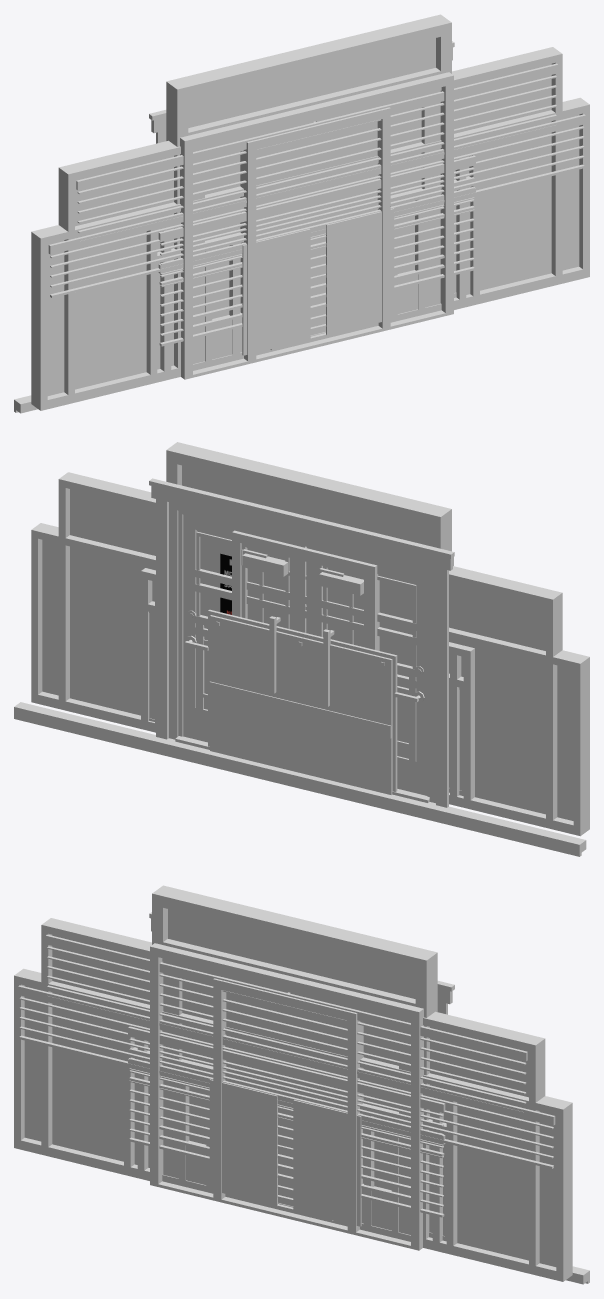
Rendered from WG01_Protos.fbx.
3 renders of one model, top to bottom at view 1: azimuth 30°, elevation 25°; view 2: azimuth 150°, elevation 25°; view 3: azimuth 330°, elevation 25°, orthographic.
Visible parts, largest first — view 1: P.win_office_front__Glass_2B3438, P.win_office_west__Glass_2B3438, P.win_motel_0__Fabric_B8865A, P.win_office_front__Metal_3A3129, P.win_office_front__SmoothPlastic_E6E0D0, P.storefront_door__Metal_3A3129, P.win_office_west__SmoothPlastic_E6E0D0, P.win_office_west__Metal_3A3129, P.door_elsol_pair__Wood_2F6B3E, P.storefront_door__Glass_2B3438, P.door_elsol_pair__Wood_6B3E22, P.door_back_steel__Metal_6E6A62 (+21 smaller); view 2: P.win_office_front__Glass_2B3438, P.win_boarded__Wood_B08A5C, P.storefront_door__Metal_3A3129, P.door_elsol_pair__Wood_2F6B3E, P.win_office_west__Glass_2B3438, P.win_office_west__Metal_3A3129, P.win_office_front__Metal_3A3129, P.win_office_west__Concrete_D8CFBE, P.win_elsol_12__Wood_2F6B3E, P.storefront_door__Glass_2B3438, P.door_back_steel__Metal_6E6A62, P.storefront_door__Glass_243036 (+15 smaller); view 3: P.win_office_west__Glass_2B3438, P.win_office_front__Glass_2B3438, P.win_motel_0__Fabric_B8865A, P.win_office_front__Metal_3A3129, P.win_office_front__SmoothPlastic_E6E0D0, P.win_office_west__SmoothPlastic_E6E0D0, P.win_office_west__Metal_3A3129, P.storefront_door__Metal_3A3129, P.door_elsol_pair__Wood_2F6B3E, P.storefront_door__Glass_2B3438, P.door_elsol_pair__Wood_6B3E22, P.door_back_steel__Metal_6E6A62 (+22 smaller).
Boxes of the visible parts, x1,y1,x2,y2 form: P.win_office_front__Glass_2B3438: [75, 63, 551, 389]; P.win_office_west__Glass_2B3438: [47, 114, 579, 395]; P.win_motel_0__Fabric_B8865A: [242, 208, 394, 355]; P.win_office_front__Metal_3A3129: [58, 47, 562, 404]; P.win_office_front__SmoothPlastic_E6E0D0: [76, 63, 558, 233]; P.storefront_door__Metal_3A3129: [166, 14, 451, 367]; P.win_office_west__SmoothPlastic_E6E0D0: [48, 114, 585, 287]; P.win_office_west__Metal_3A3129: [31, 97, 589, 410]; P.door_elsol_pair__Wood_2F6B3E: [149, 41, 454, 379]; P.storefront_door__Glass_2B3438: [188, 38, 435, 127]; P.door_elsol_pair__Wood_6B3E22: [193, 91, 440, 363]; P.door_back_steel__Metal_6E6A62: [240, 106, 390, 364]; P.win_office_front__Glass_2B3438: [70, 489, 545, 814]; P.win_boarded__Wood_B08A5C: [210, 615, 392, 794]; P.storefront_door__Metal_3A3129: [166, 442, 451, 803]; P.door_elsol_pair__Wood_2F6B3E: [149, 478, 454, 807]; P.win_office_west__Glass_2B3438: [42, 540, 573, 820]; P.win_office_west__Metal_3A3129: [31, 523, 589, 836]; P.win_office_front__Metal_3A3129: [58, 472, 562, 829]; P.win_office_west__Concrete_D8CFBE: [14, 702, 586, 856]; P.win_elsol_12__Wood_2F6B3E: [141, 568, 474, 809]; P.storefront_door__Glass_2B3438: [182, 465, 429, 545]; P.door_back_steel__Metal_6E6A62: [232, 530, 379, 650]; P.storefront_door__Glass_243036: [200, 537, 412, 743]; P.win_office_west__Glass_2B3438: [24, 985, 556, 1266]; P.win_office_front__Glass_2B3438: [52, 934, 528, 1245]; P.win_motel_0__Fabric_B8865A: [209, 1079, 361, 1226]; P.win_office_front__Metal_3A3129: [41, 918, 545, 1275]; P.win_office_front__SmoothPlastic_E6E0D0: [45, 934, 527, 1104]; P.win_office_west__SmoothPlastic_E6E0D0: [18, 985, 555, 1158]; P.win_office_west__Metal_3A3129: [14, 968, 572, 1281]; P.storefront_door__Metal_3A3129: [152, 885, 437, 1238]; P.door_elsol_pair__Wood_2F6B3E: [149, 912, 454, 1250]; P.storefront_door__Glass_2B3438: [168, 909, 415, 998]; P.door_elsol_pair__Wood_6B3E22: [163, 962, 410, 1234]; P.door_back_steel__Metal_6E6A62: [213, 977, 363, 1235].
Size of the model in its own units: 20.6 by 10.42 by 1.42.
38 materials, 2 textured.
